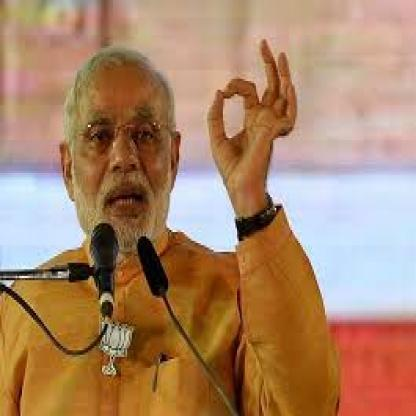ok: (207, 35, 300, 196)
